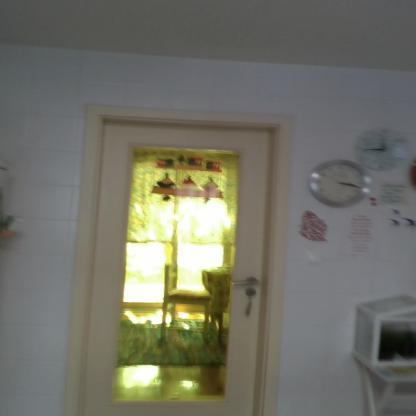door: (83, 108, 270, 416)
lever: (229, 278, 262, 290)
